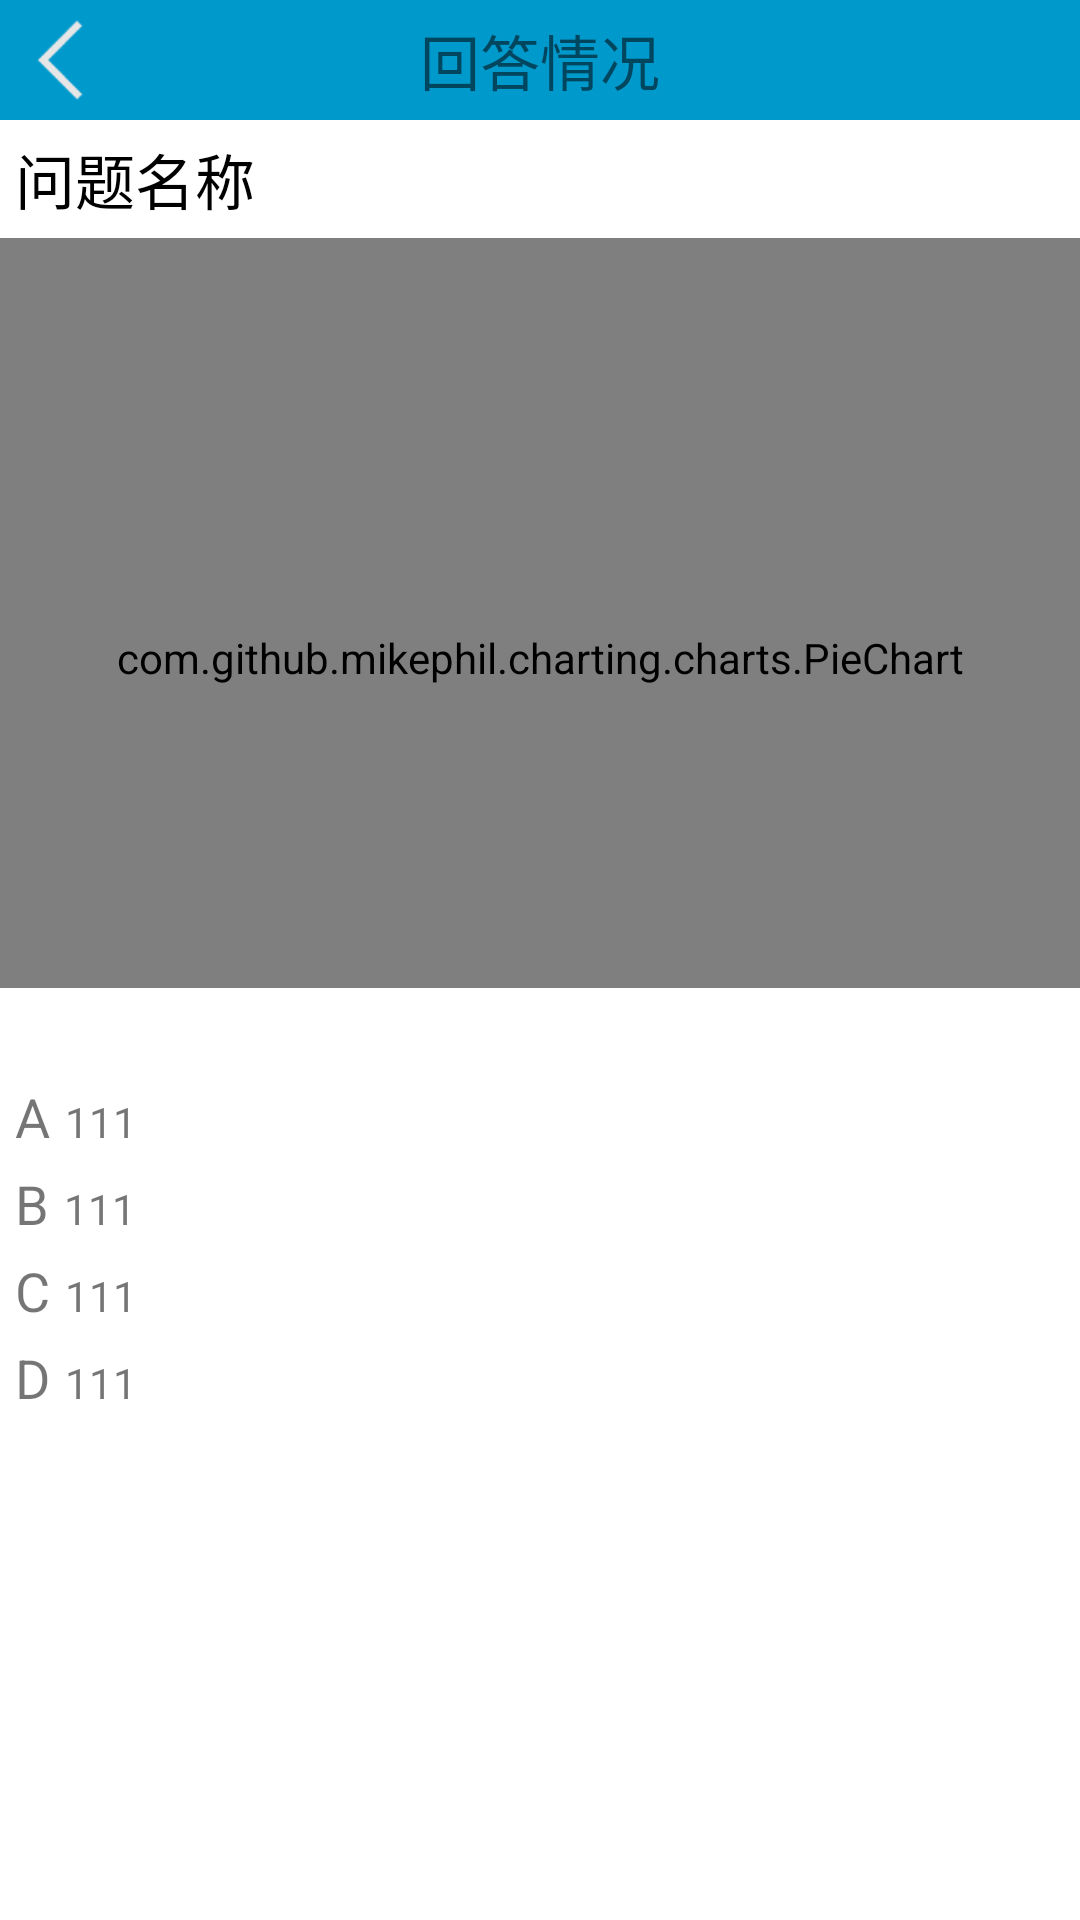

Icon bounding boxes for this 1080 x 1920 phone screenshot, format (left=x1, top=y1, right=x2, bottom=y2):
back: (left=37, top=20, right=83, bottom=100)
